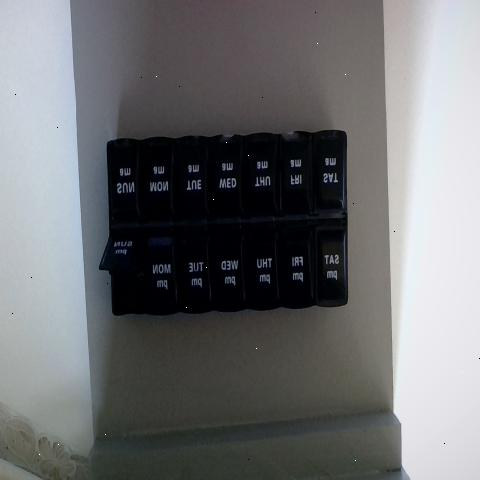FRI-am: (282, 131, 310, 208)
FRI-pm: (278, 215, 312, 302)
MON-am: (146, 140, 180, 221)
MON-pm: (145, 226, 178, 308)
Open: (109, 237, 142, 311)
PillBox: (97, 100, 360, 360)
SAT-am: (311, 130, 346, 212)
SAT-pm: (312, 220, 348, 303)
SUN-am: (110, 139, 142, 226)
THU-am: (244, 133, 277, 216)
THU-pm: (241, 224, 277, 302)
TUE-am: (180, 140, 211, 220)
TUE-pm: (180, 229, 212, 306)
WED-am: (210, 136, 243, 219), (211, 229, 242, 309)
